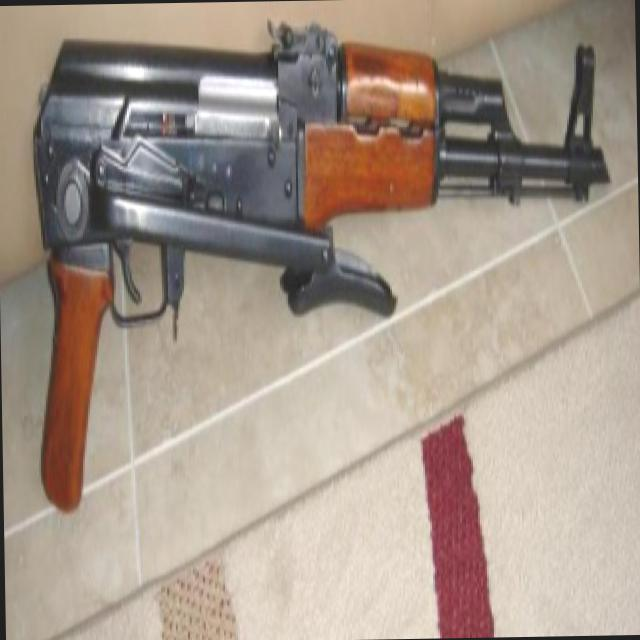long weapon: (18, 7, 616, 514)
